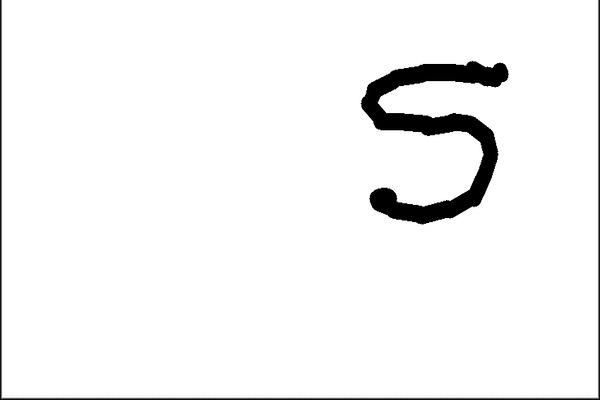S: (352, 49, 518, 239)
